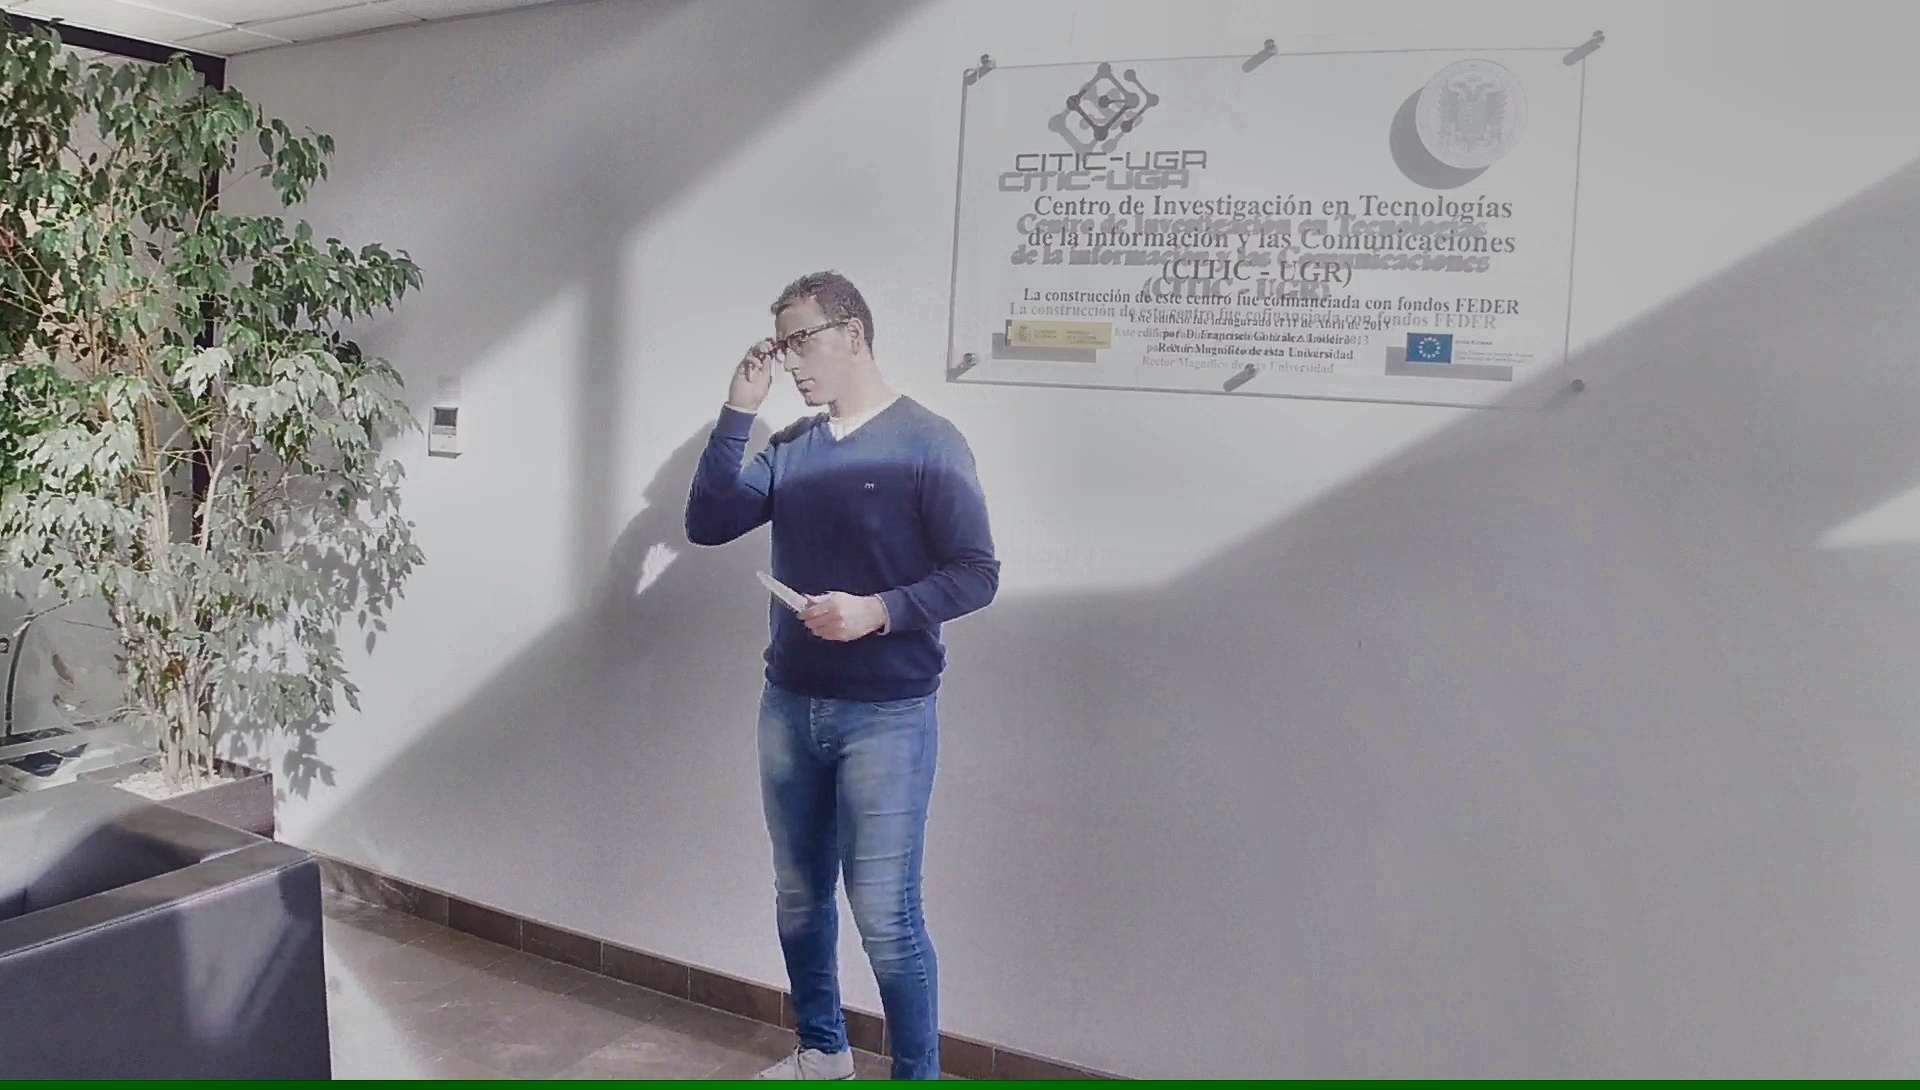knife: (746, 561, 833, 638)
